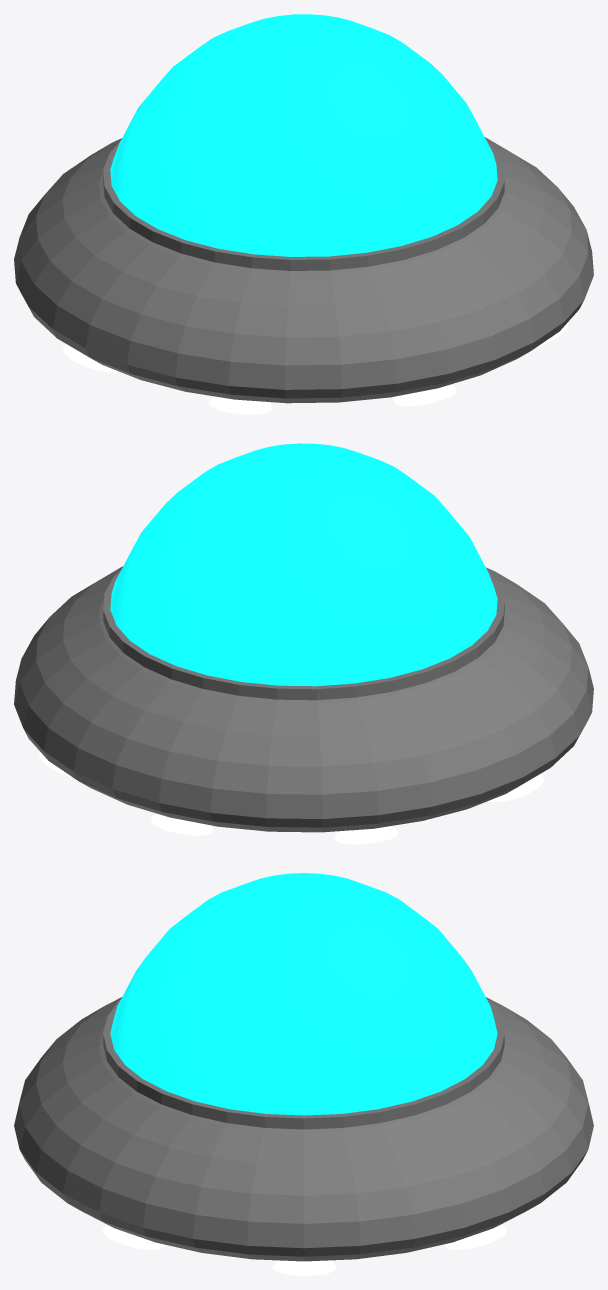
The model's file is UFO.glb.
3 views of the same model, one above another, from view 1: azimuth 30°, elevation 25°; view 2: azimuth 150°, elevation 25°; view 3: azimuth 270°, elevation 25° (orthographic).
Visible parts, largest first — view 1: Sphere, Sphere.001, Cylinder, Sphere.007, Sphere.004, Sphere.006; view 2: Sphere, Sphere.001, Cylinder, Sphere.010, Sphere.003, Sphere.006; view 3: Sphere, Sphere.001, Cylinder, Sphere.005, Sphere.008, Sphere.009.
Boxes of the visible parts, x1,y1,x2,y2 form: Sphere: (14, 137, 593, 403); Sphere.001: (110, 14, 497, 256); Cylinder: (103, 140, 504, 270); Sphere.007: (209, 396, 272, 414); Sphere.004: (393, 384, 456, 405); Sphere.006: (63, 344, 118, 372); Sphere: (14, 566, 593, 832); Sphere.001: (110, 443, 497, 686); Cylinder: (103, 570, 504, 700); Sphere.010: (334, 826, 397, 844); Sphere.003: (151, 813, 213, 835); Sphere.006: (488, 774, 543, 802); Sphere: (14, 997, 593, 1261); Sphere.001: (110, 873, 497, 1115); Cylinder: (103, 999, 504, 1129); Sphere.005: (273, 1260, 336, 1275); Sphere.008: (445, 1224, 506, 1249); Sphere.009: (102, 1225, 164, 1249).
Size of the model in its own units: 2 by 1.19 by 2.
